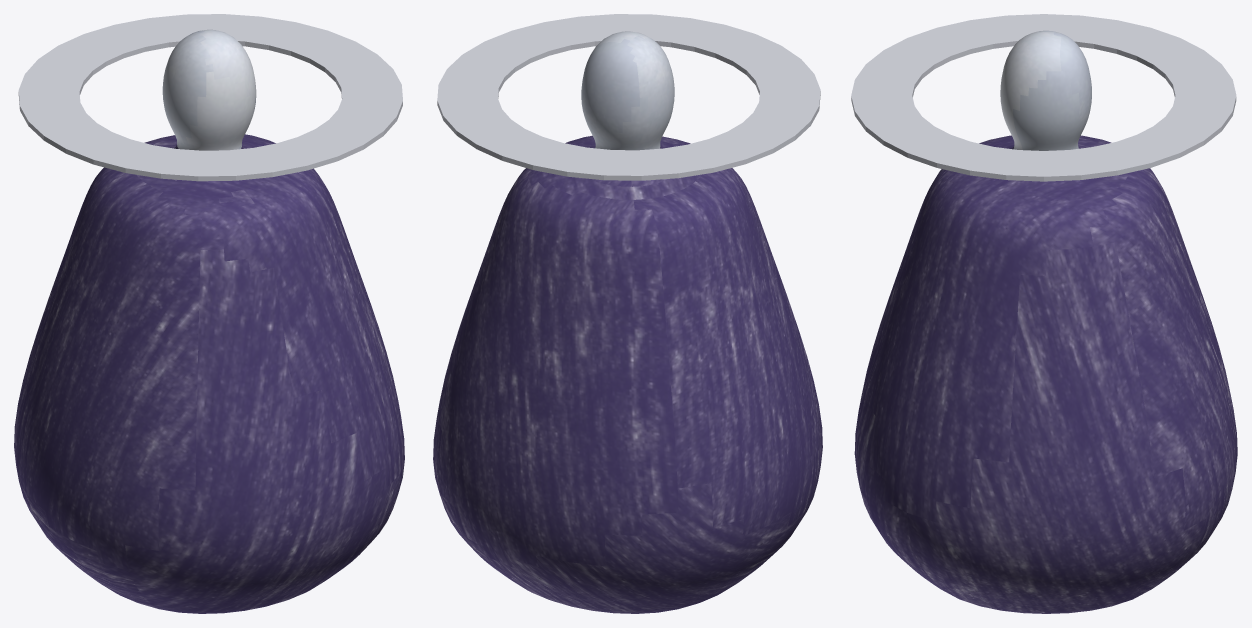
Rendered from lampe_texture.fbx.
3 renders of one model, left to right at view 1: azimuth 30°, elevation 25°; view 2: azimuth 150°, elevation 25°; view 3: azimuth 270°, elevation 25°, orthographic.
Parts seen in each view (by area): view 1: lampe; view 2: lampe; view 3: lampe.
Part boxes in pixels (box(x1,y1,x2,y2)): lampe: box(14, 14, 404, 613); lampe: box(433, 14, 822, 613); lampe: box(851, 14, 1237, 613).
Bounding box in the file's own units: 25.62 × 39.77 × 25.7.
